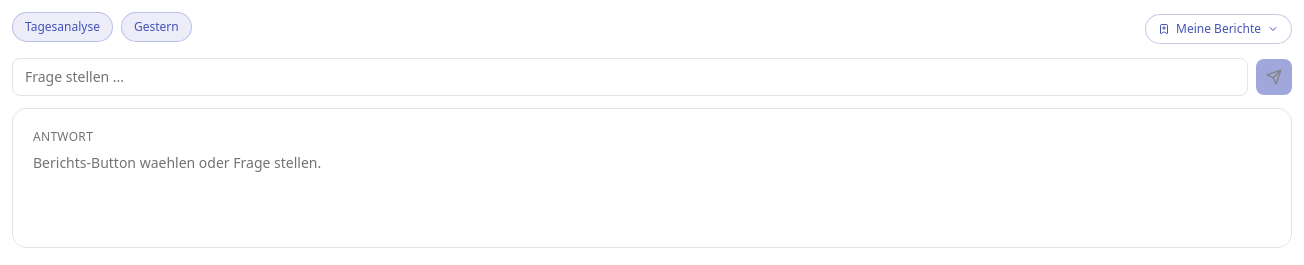
Test: KIWorkspace › V7.6 SLC-763 Custom-Reports wire-up › renders Meine-Berichte-Dropdown with empty state when customReports=[]
Click the button with test id "meine-berichte-trigger" at (1218, 29), box [1145, 14, 1292, 44]
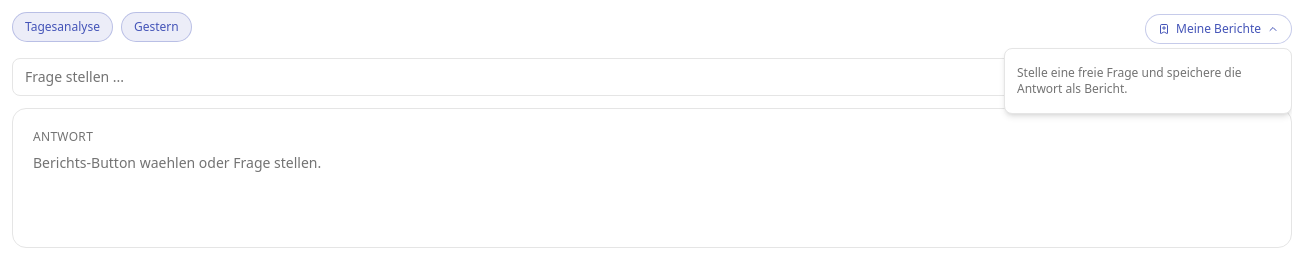
Expected: the text with test id "meine-berichte-empty" is shown, [1017, 64, 1242, 97]
